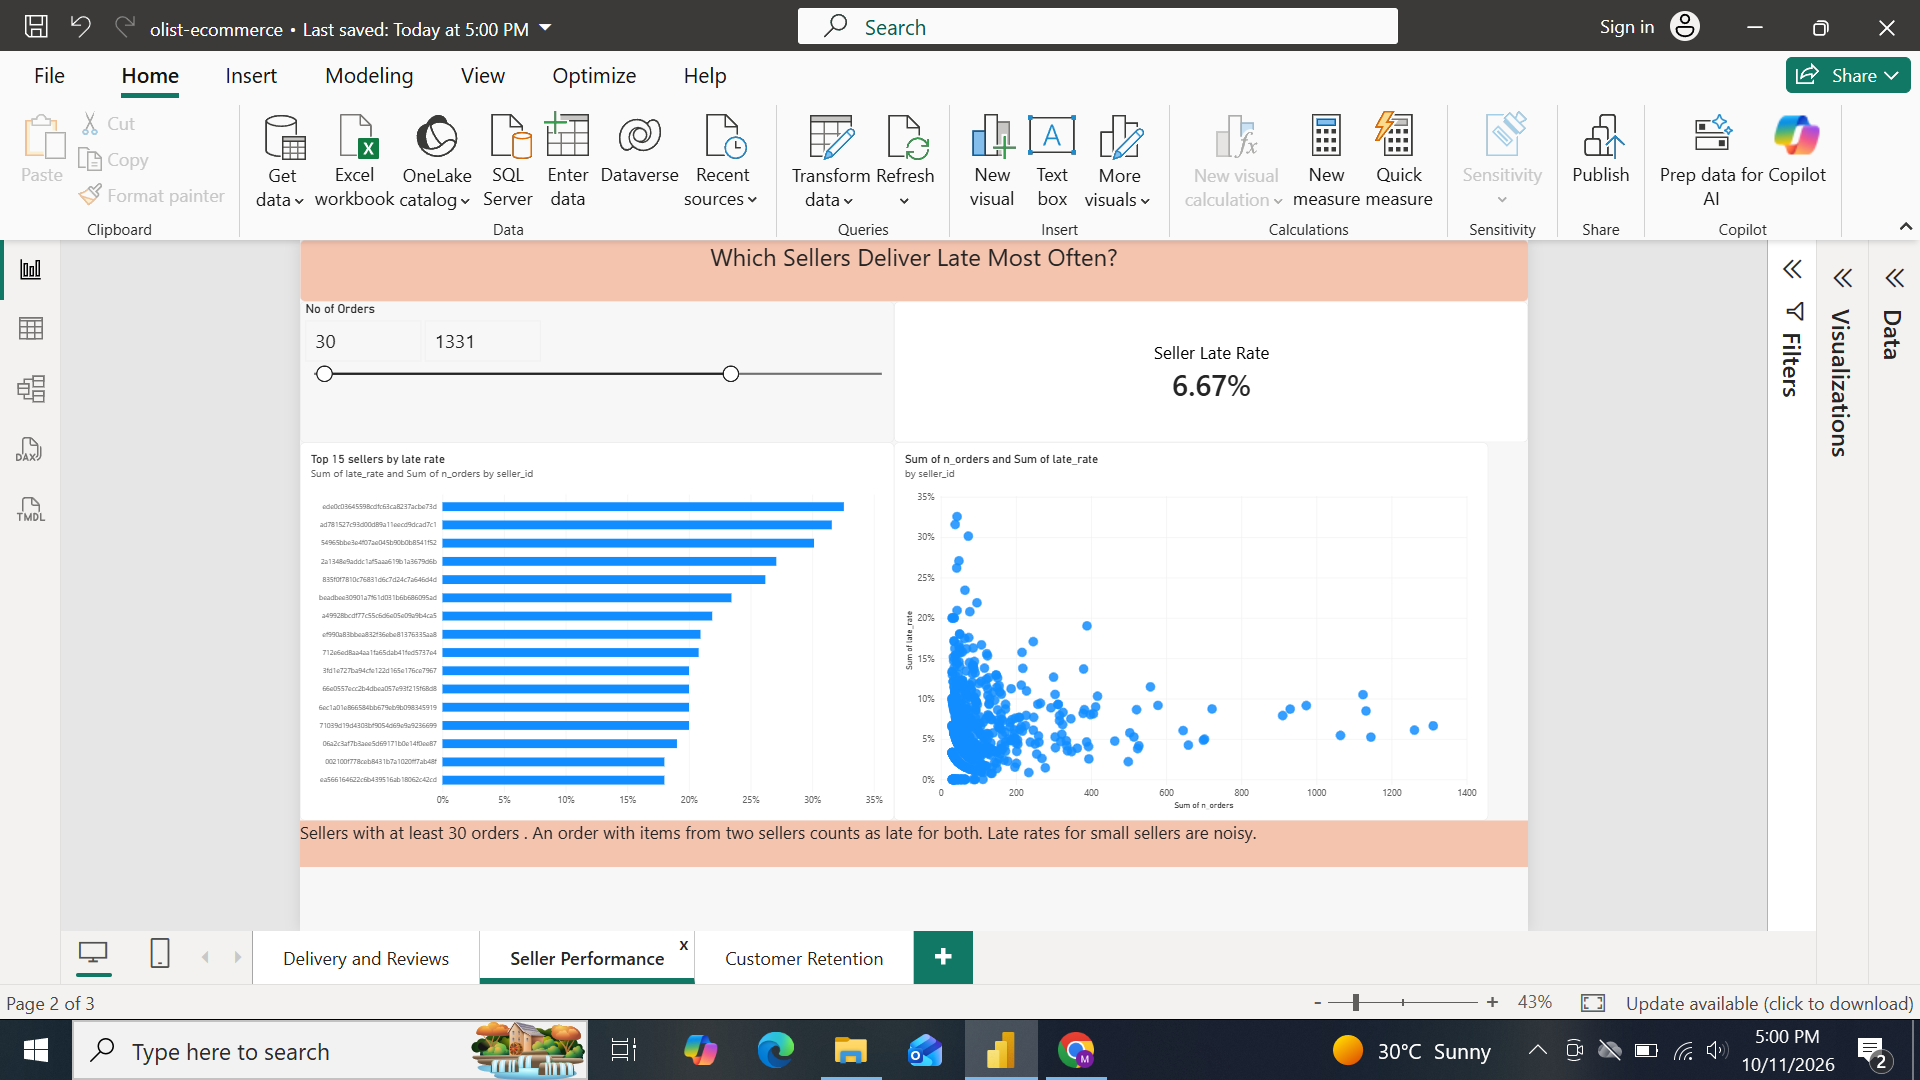

What the dashboard file says about the page in this screenshot:
{"tool":"powerbi","page":{"name":"Seller Performance","canvas":[1920,1080],"ordinal":1},"visuals":[{"type":"textbox","box":[0,0,1920.1,96.1],"z":0},{"type":"slicer","fields":{"Values":["seller_summary.n_orders"]},"box":[0,96.1,928.4,220.4],"z":1000},{"type":"clusteredBarChart","title":"Top 15 sellers by late rate","fields":{"Category":["seller_summary.seller_id"],"Y":["Sum(seller_summary.late_rate)"]},"box":[0,316.5,928.4,590.8],"z":2000},{"type":"scatterChart","fields":{"Category":["seller_summary.seller_id"],"X":["Sum(seller_summary.n_orders)"],"Y":["Sum(seller_summary.late_rate)"]},"box":[928.4,316.5,928.4,590.8],"z":3000},{"type":"cardVisual","fields":{"Data":["seller_summary.Seller Late Rate"]},"box":[928.4,96.1,991.7,220.4],"z":4000},{"type":"textbox","box":[0,907.3,1920.1,72.7],"z":5000}]}

Visuals, with their boxes on the page's 1920x1080 design canvas (x1, y1, x2, y2). These are canvas units, not pixel positions in the 1920x1080 screenshot, which may show the page scaled, cropped or inside an application window:
textbox: left=0, top=0, right=1920, bottom=96
slicer - seller_summary.n_orders: left=0, top=96, right=928, bottom=316
"Top 15 sellers by late rate" clusteredBarChart: left=0, top=316, right=928, bottom=907
scatterChart - seller_summary.seller_id x Sum(seller_summary.n_orders): left=928, top=316, right=1857, bottom=907
cardVisual - seller_summary.Seller Late Rate: left=928, top=96, right=1920, bottom=316
textbox: left=0, top=907, right=1920, bottom=980
